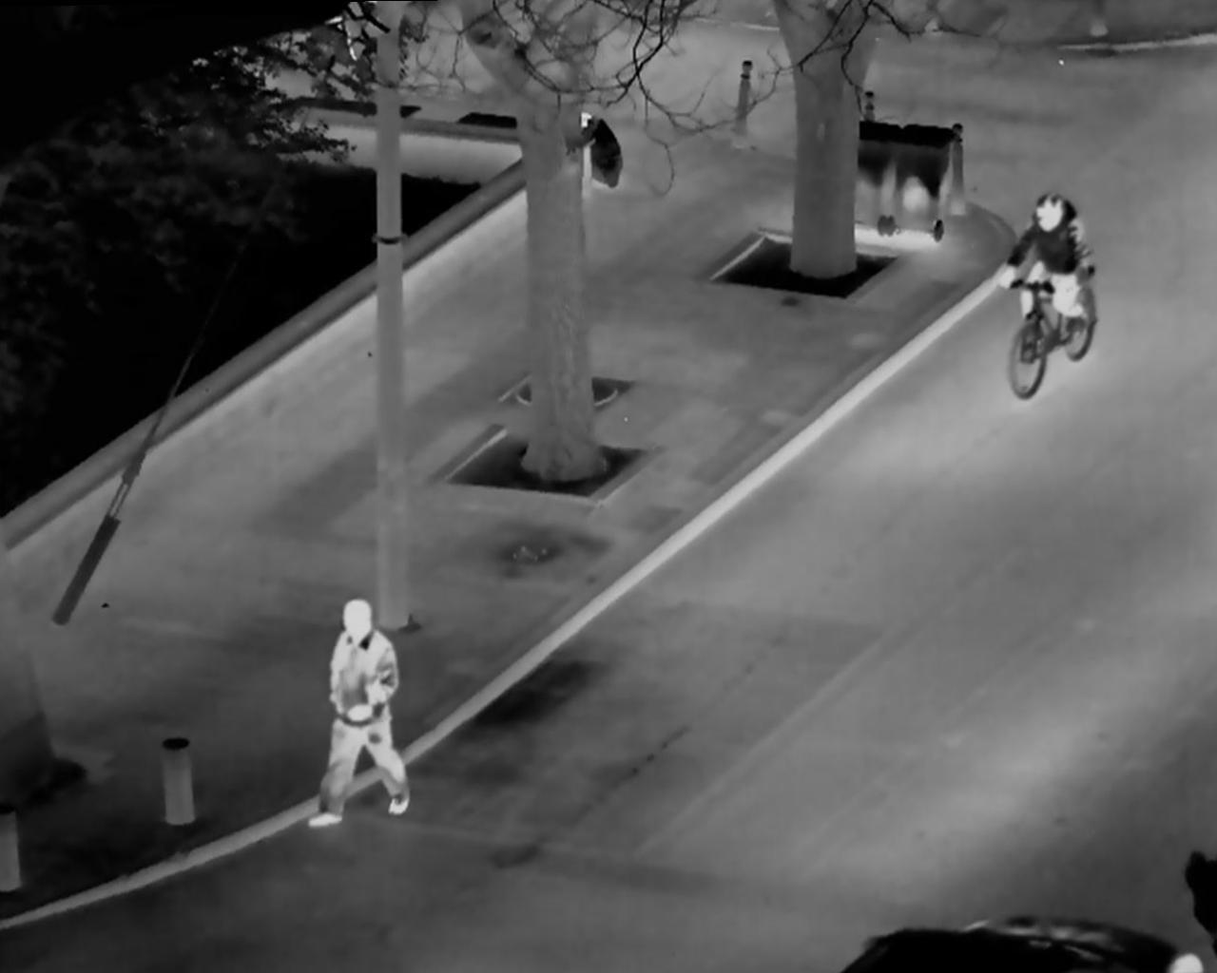person: (995, 188, 1126, 425), (308, 584, 414, 838)
